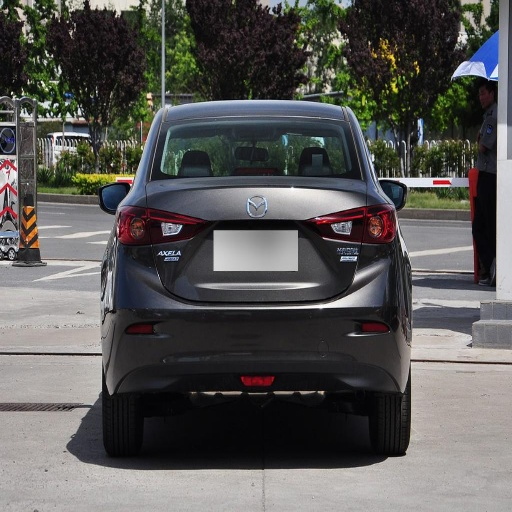_background_: (106, 248, 402, 393)
back_bumper: (150, 120, 366, 185)
back_left_door: (117, 206, 146, 245)
back_right_door: (368, 204, 397, 245)
right_mirror: (142, 179, 378, 307)
tailgate: (146, 182, 228, 232)
trunk: (367, 393, 410, 456), (103, 394, 144, 457)
